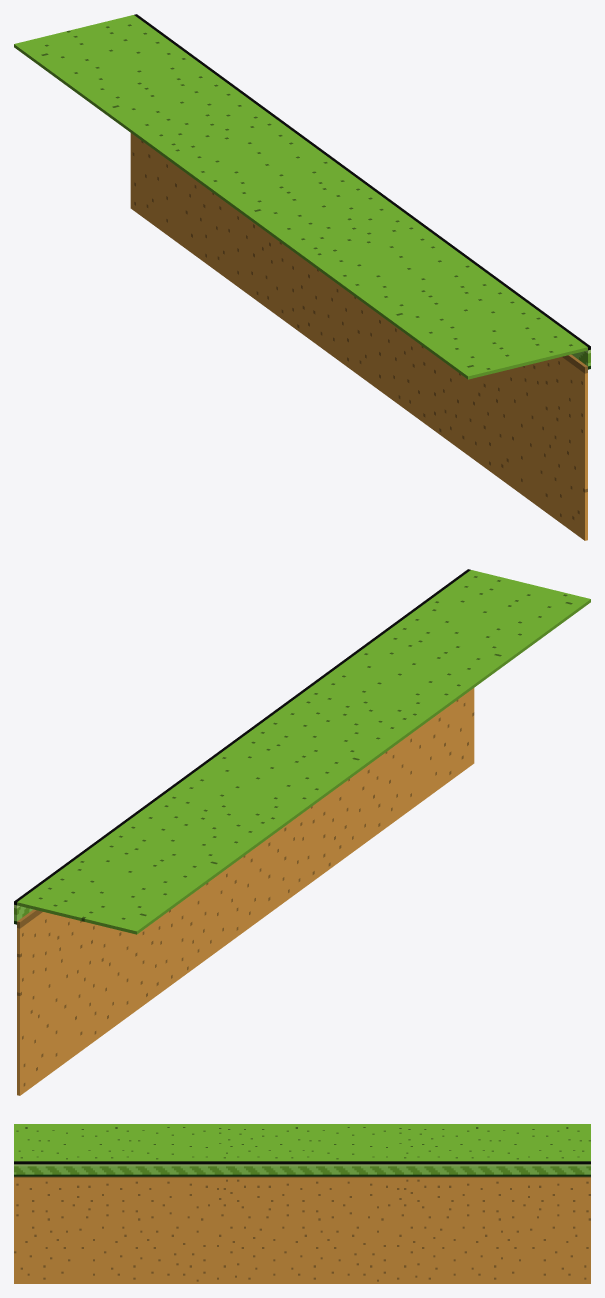
The model's file is ground.obj.
The picture shows the model from 3 angles, top to bottom: view 1: azimuth 30°, elevation 25°; view 2: azimuth 150°, elevation 25°; view 3: azimuth 270°, elevation 25°; orthographic projection. The views are drawn at different scales.
Bounding box in the file's own units: 4 × 6 × 25.6.
Materials: 1 (1 with a texture image).
